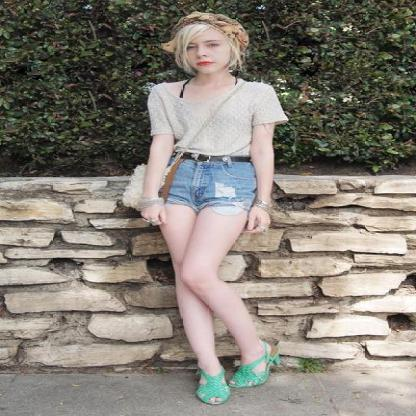bag: (118, 165, 157, 208)
hat: (174, 11, 247, 54)
shirt: (147, 79, 286, 157)
shoe: (199, 352, 291, 400)
shorts: (158, 155, 258, 224)
